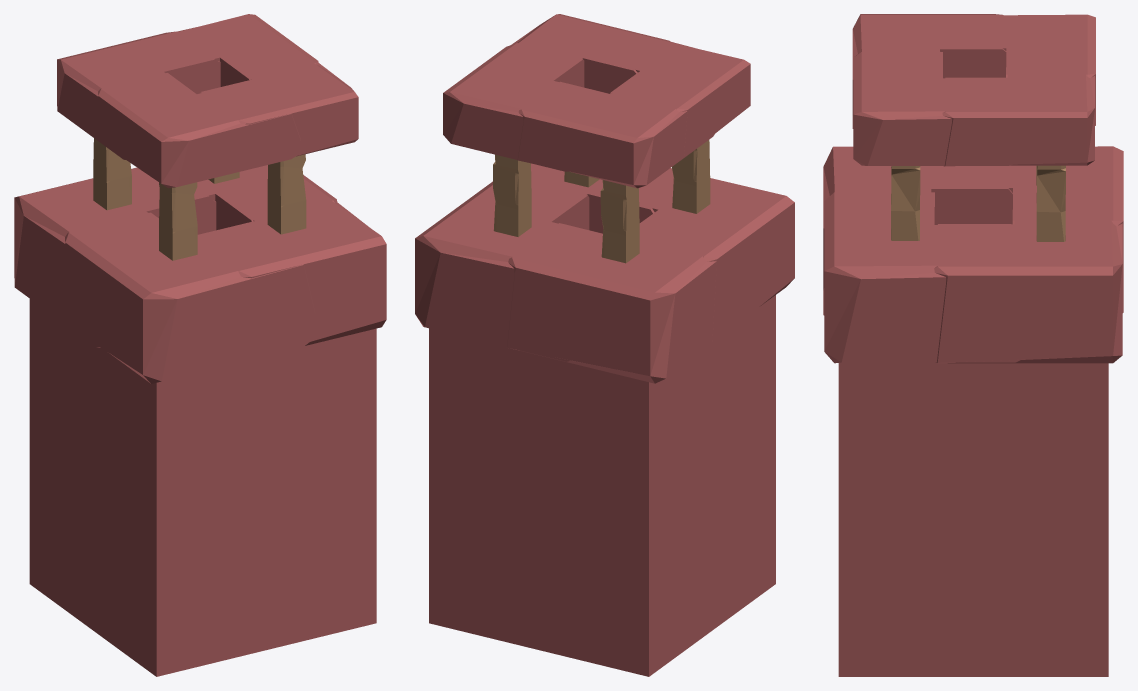
The model's file is PK_Pillar_Brick.fbx.
The picture shows the model from 3 angles, left to right: view 1: azimuth 30°, elevation 25°; view 2: azimuth 150°, elevation 25°; view 3: azimuth 270°, elevation 25°; orthographic projection. The views are drawn at different scales.
Parts seen in each view (by area): view 1: PK_Pillar_Brick; view 2: PK_Pillar_Brick; view 3: PK_Pillar_Brick.
Part boxes in pixels (x1,y1,x2,y2): PK_Pillar_Brick: (14,14,386,676); PK_Pillar_Brick: (415,14,794,676); PK_Pillar_Brick: (823,14,1123,676).
Size of the model in its own units: 68.09 by 138 by 67.16.
